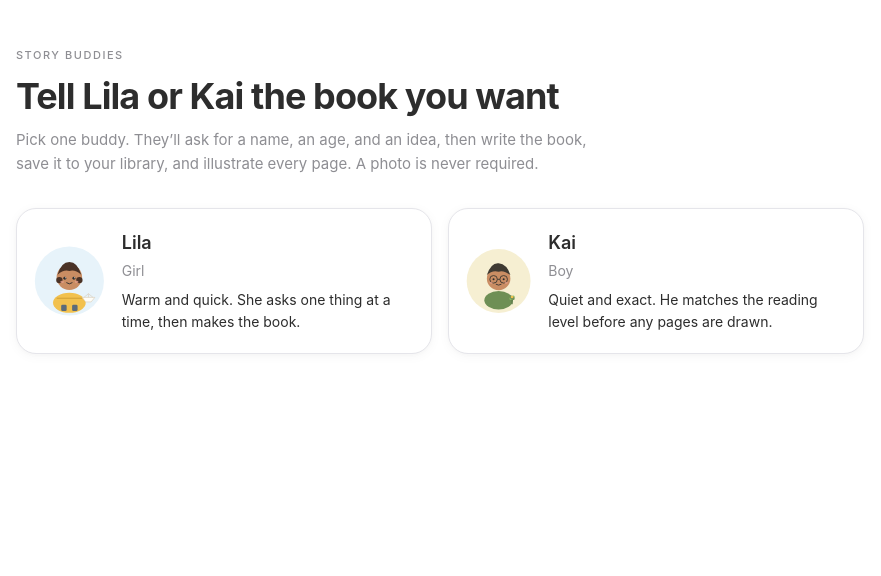
StoryBuddy › shows a confirmation card and keeps it for sign-in
The image size is (881, 576).
Later steps or results of the test are not shown.
Click the button "Lila".
click(69, 281)  # box [16,208,432,354]
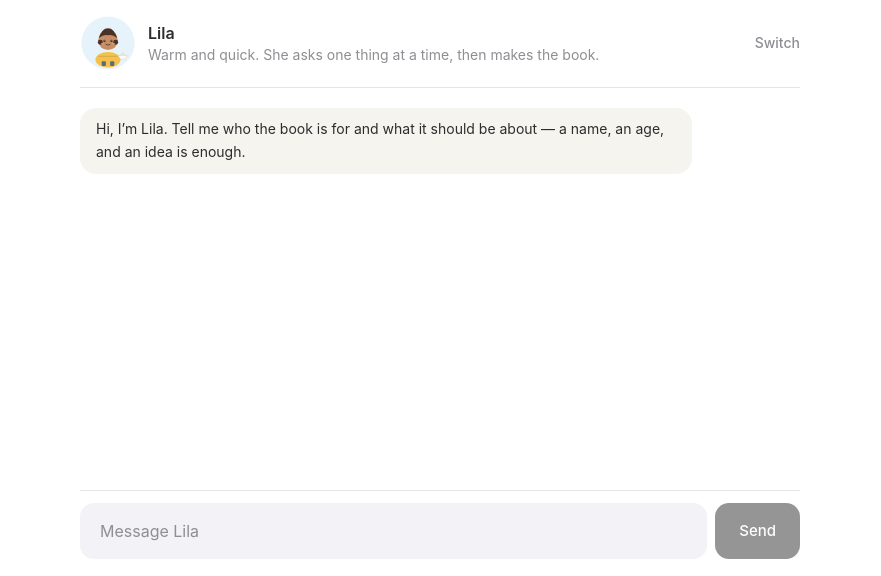
Type "Make an 8-page GRL C book about dinosaurs for Mia, age 6." into the field labelled "Message Lila".
click(394, 531); type("Make an 8-page GRL C book about dinosaurs for Mia, age 6.")  # box [80,503,707,559]
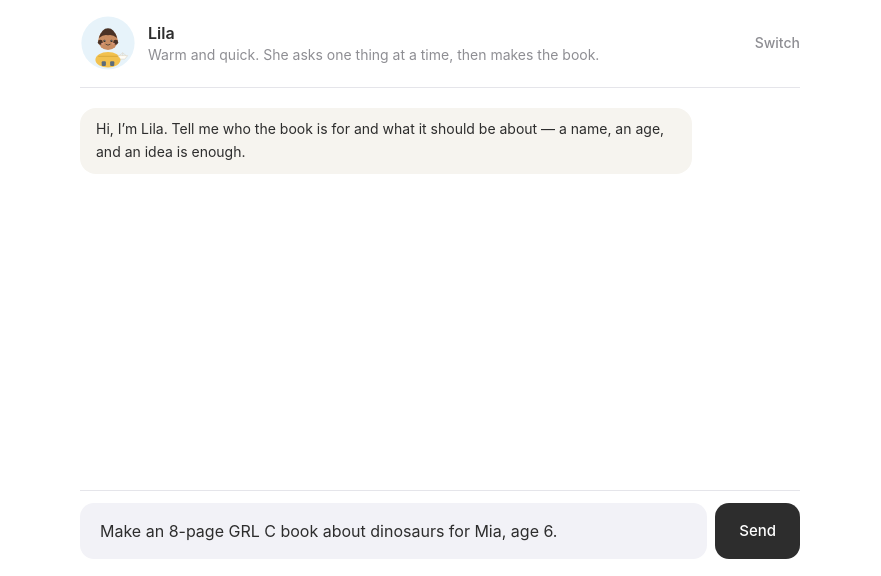
Click the button "Send".
click(758, 531)  # box [715,503,800,559]
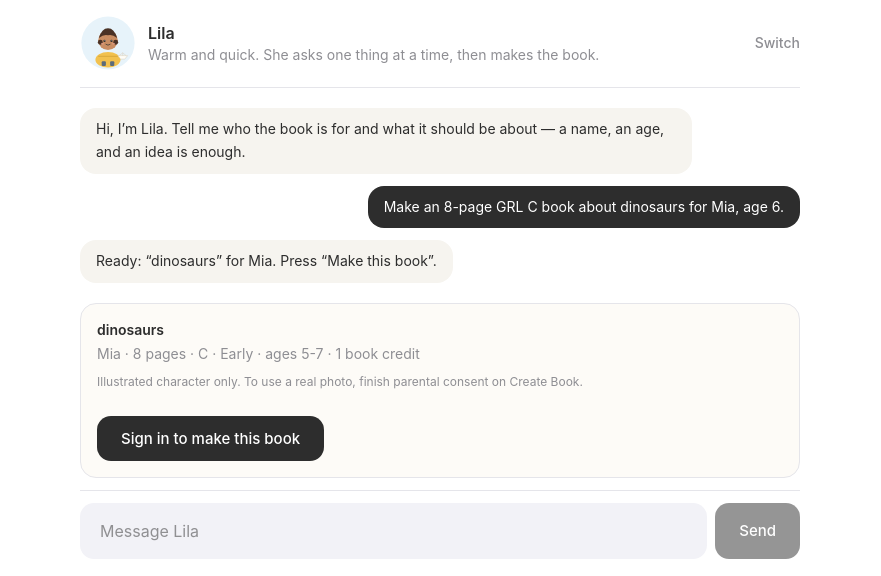
Expected: the text "Mia · 8 pages · C · Early · ages 5-7 · 1 book credit" is shown, [97,345,420,362]
